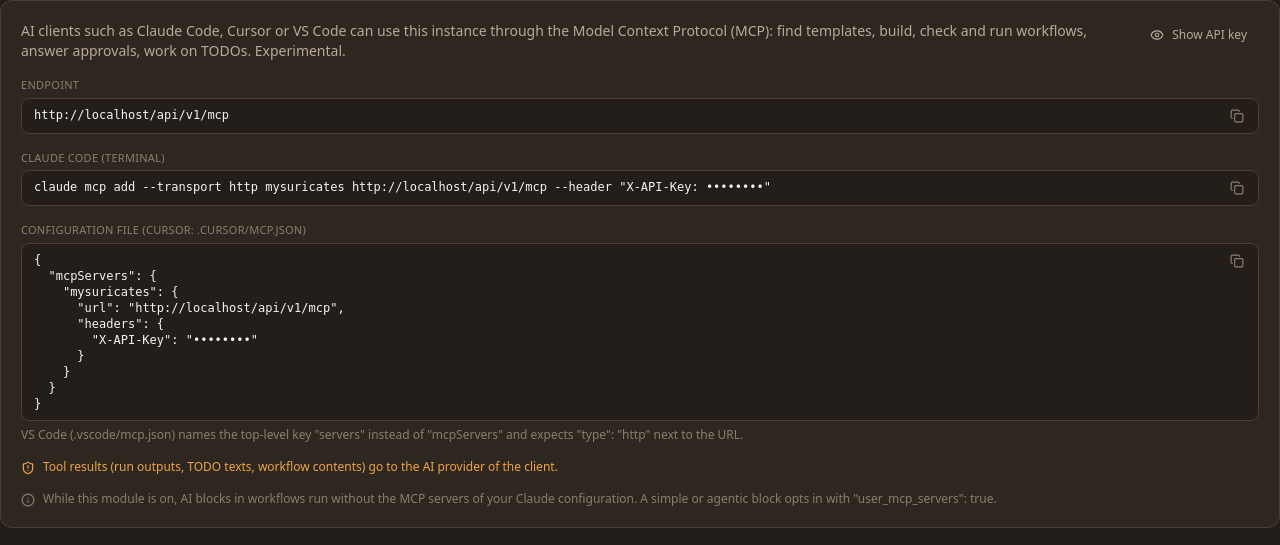
McpConnectCard › reveals and hides the key on request
The image size is (1280, 545).
What coordinates should you click on to do the following:
click the button "Show API key"
I would click on:
 (1199, 35)
Its box is [1138,21,1259,49].
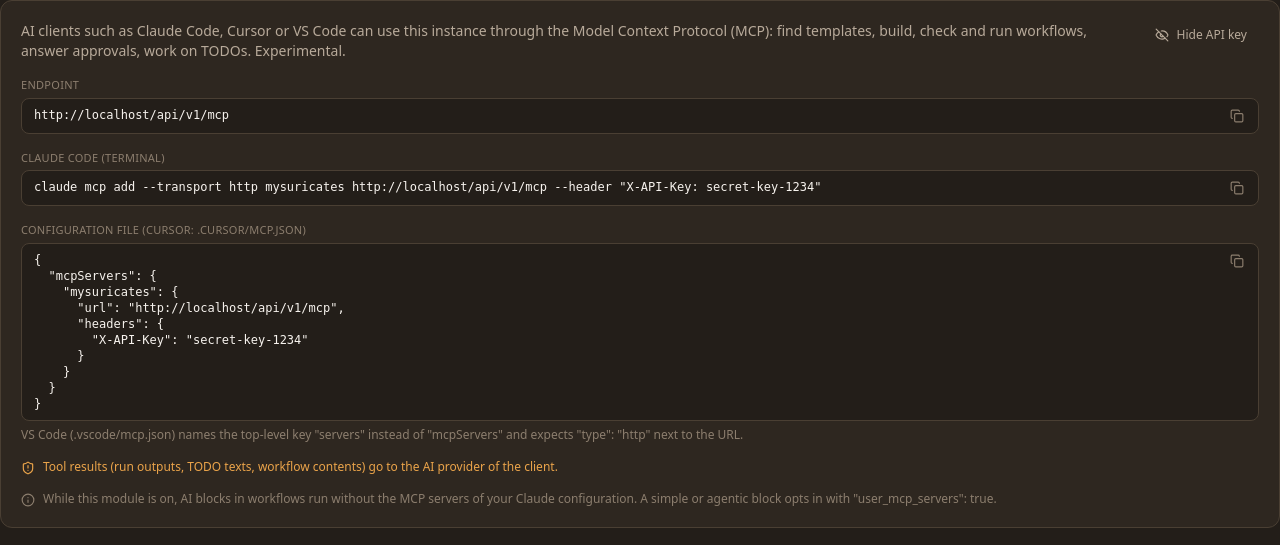
What coordinates should you click on to do the following:
click the button "Hide API key"
I would click on:
 (1201, 35)
Its box is [1143,21,1259,49].
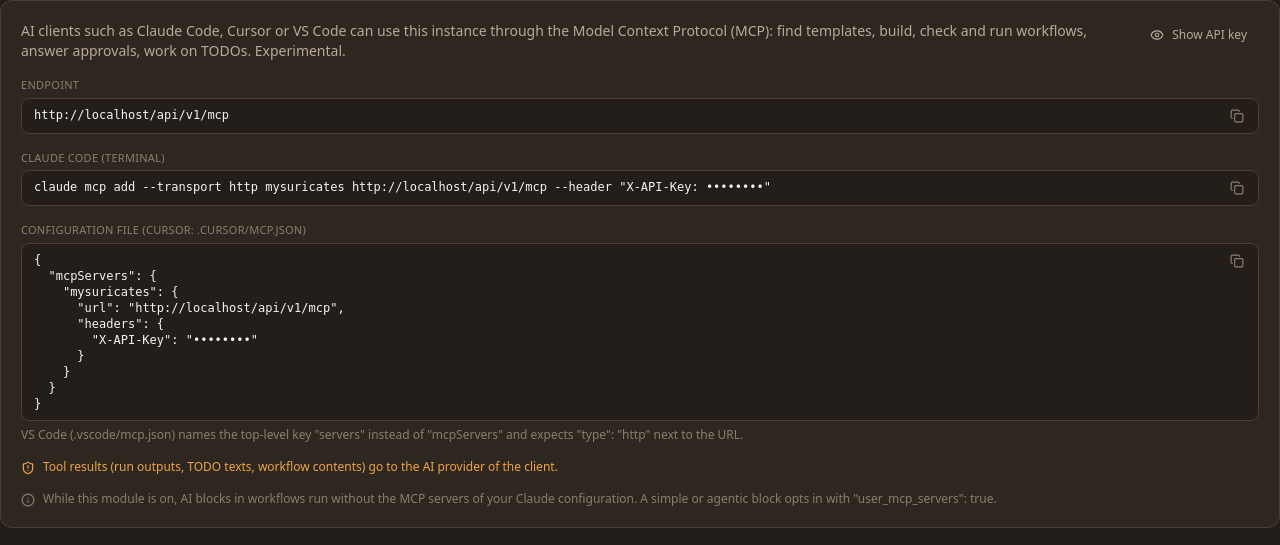
Check: the element with test id "mcp-connect" no longer shows "secret-key-1234"
